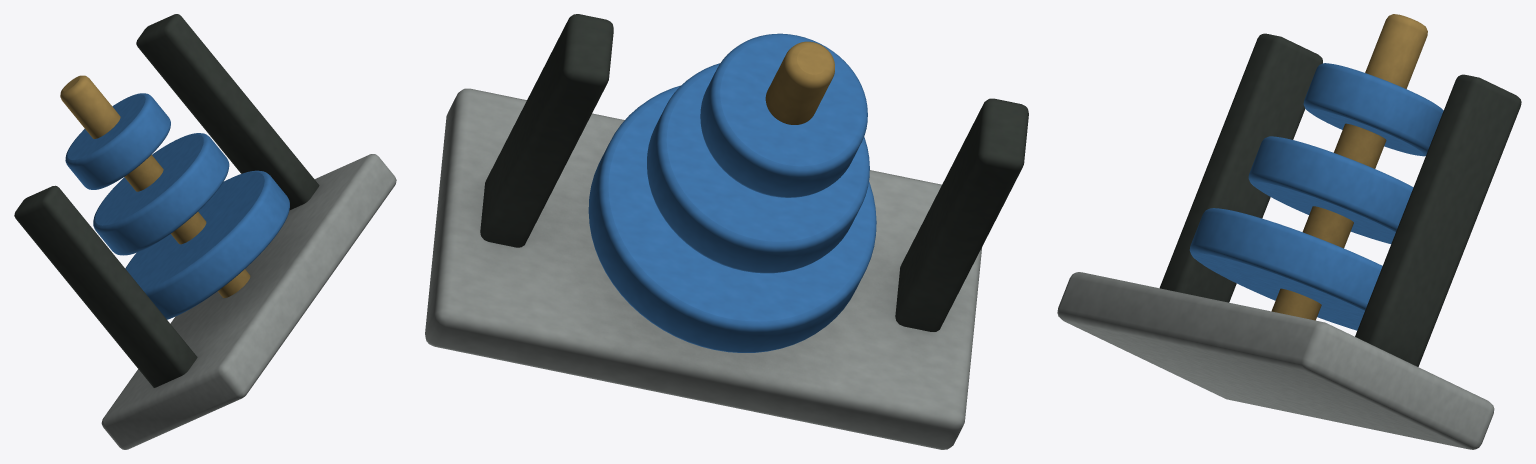
3 views of the same model, side by side, from view 1: azimuth 30°, elevation 25°; view 2: azimuth 150°, elevation 25°; view 3: azimuth 270°, elevation 25° (orthographic). The views are drawn at different scales.
Visible parts, largest first — view 1: Bolted mechanical base; view 2: Bolted mechanical base; view 3: Bolted mechanical base.
Boxes of the visible parts, x1,y1,x2,y2 form: Bolted mechanical base: [14, 14, 396, 449]; Bolted mechanical base: [425, 14, 1028, 449]; Bolted mechanical base: [1057, 14, 1521, 449].
Size of the model in its own units: 1.38 by 1.12 by 1.14.
1 material, 1 textured.
